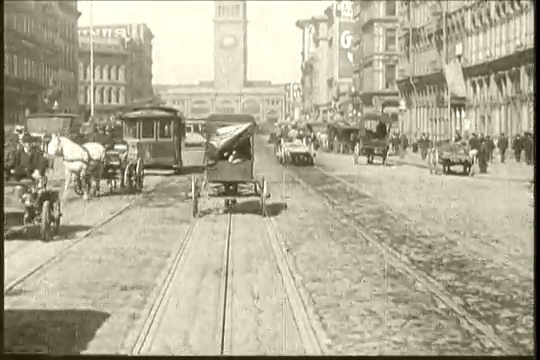car: (1, 129, 64, 240)
carriage: (184, 110, 277, 219), (38, 129, 145, 205), (419, 127, 477, 181), (347, 107, 396, 167), (272, 123, 323, 167), (320, 112, 359, 157)
trolley: (112, 98, 184, 175)
